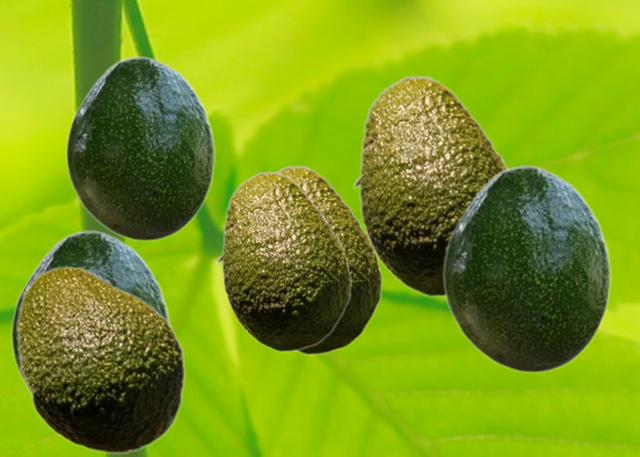avocado: (442, 165, 610, 373), (352, 75, 510, 296), (15, 265, 185, 454), (65, 56, 214, 241), (10, 230, 170, 396), (216, 171, 351, 351), (276, 165, 382, 354)
